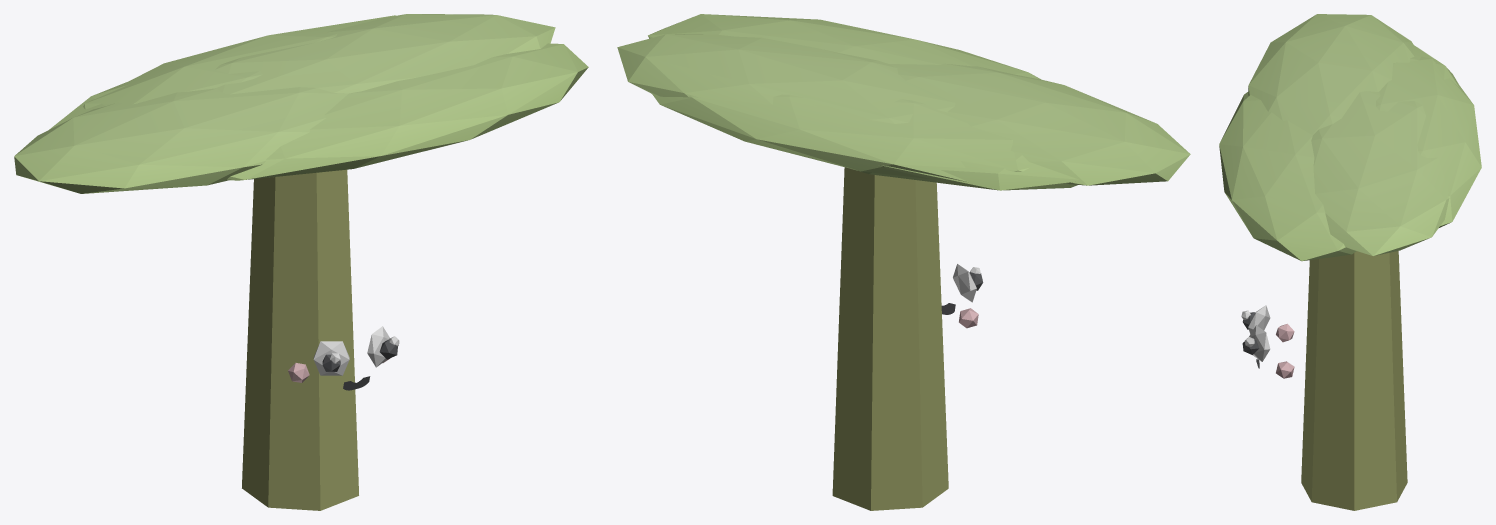
Rendered from musa-ornata.glb.
The picture shows the model from 3 angles, left to right: view 1: azimuth 30°, elevation 25°; view 2: azimuth 150°, elevation 25°; view 3: azimuth 270°, elevation 25°; orthographic projection. The views are drawn at different scales.
Parts seen in each view (by area): view 1: pseudostem, leaf2, leaf1, leaf0, leaf3, pface-eye-r; view 2: pseudostem, leaf2, leaf0, leaf3, leaf1, leaf4; view 3: pseudostem, leaf0, leaf1, leaf2, leaf3, pface-eye-l, leaf4, pface-eye-r.
Part boxes in pixels (box(x1,y1,x2,y2)): pseudostem: box(242, 169, 358, 510); leaf2: box(14, 87, 347, 193); leaf1: box(227, 43, 588, 180); leaf0: box(215, 14, 555, 94); leaf3: box(83, 15, 395, 109); pface-eye-r: box(313, 341, 349, 375); pseudostem: box(832, 167, 948, 510); leaf2: box(889, 63, 1190, 185); leaf0: box(617, 34, 955, 123); leaf3: box(651, 93, 1029, 182); leaf1: box(648, 14, 1040, 79); leaf4: box(854, 152, 1078, 190); pseudostem: box(1301, 251, 1407, 510); leaf0: box(1311, 91, 1449, 255); leaf1: box(1219, 92, 1356, 261); leaf2: box(1248, 14, 1414, 135); leaf3: box(1376, 56, 1481, 227); pface-eye-l: box(1249, 325, 1270, 361); leaf4: box(1409, 43, 1459, 87); pface-eye-r: box(1248, 305, 1270, 333).
Bounding box in the file's own units: 0.6235 × 0.4459 × 0.2887.
